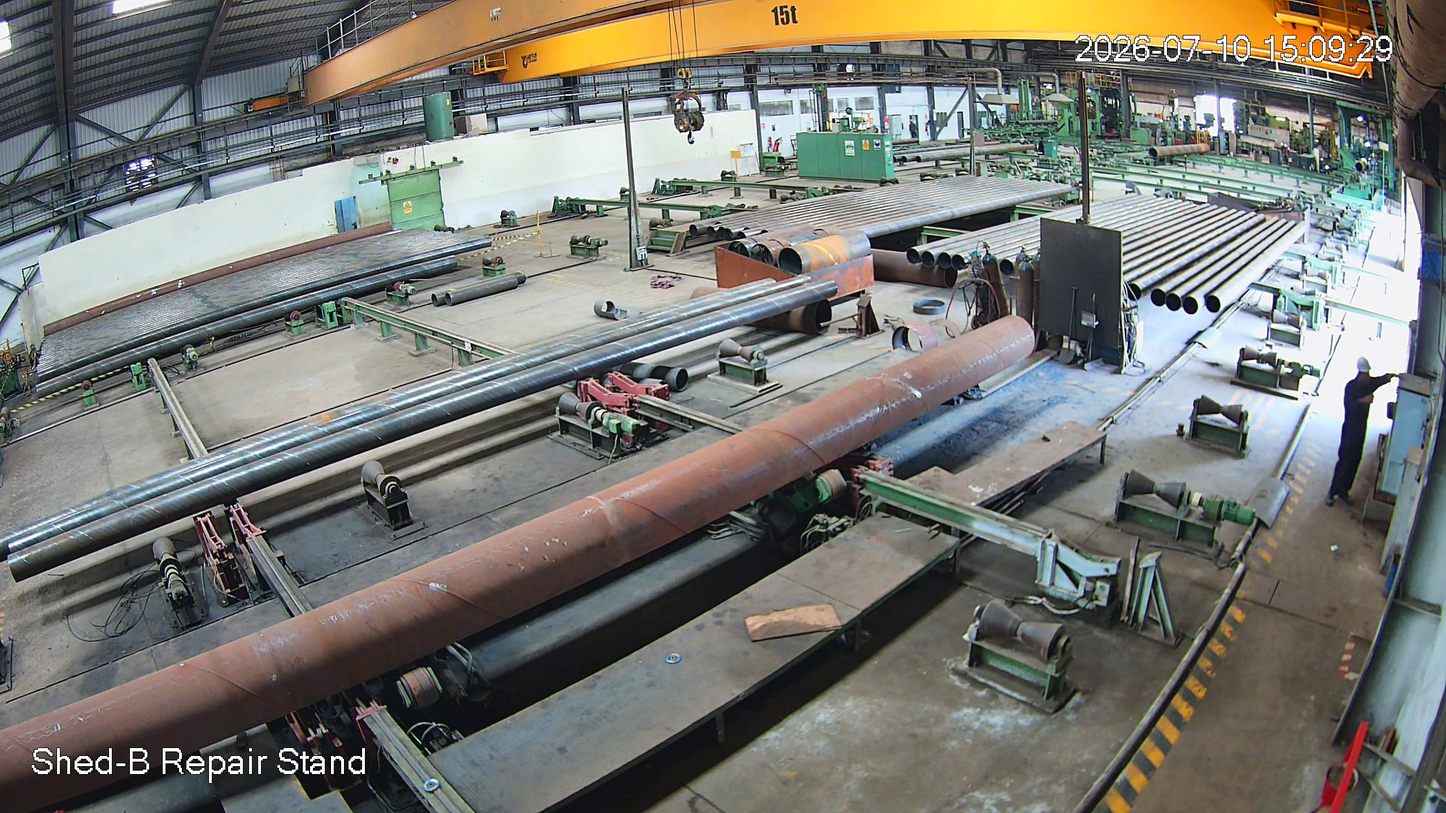Helmet: (1350, 351, 1377, 397)
Person: (1322, 355, 1383, 515)
